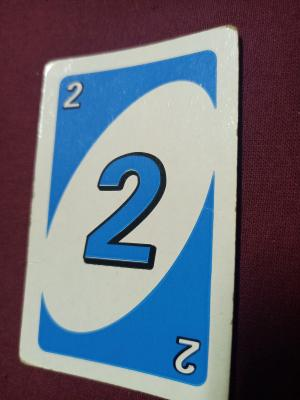num_2: (76, 149, 172, 276), (166, 326, 205, 378), (61, 71, 89, 116)
